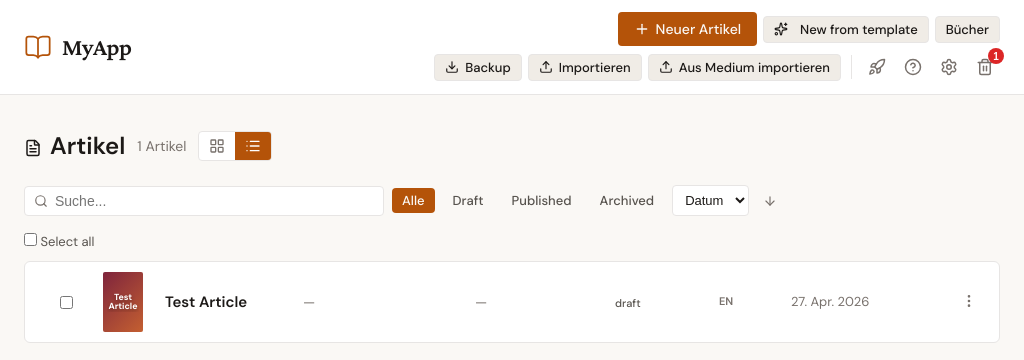
ArticleList › trash view respects viewMode toggle (list <-> grid)
Click the button with test id "article-list-trash-toggle": x=985, y=67 x1=970 y1=52 x2=1000 y2=82
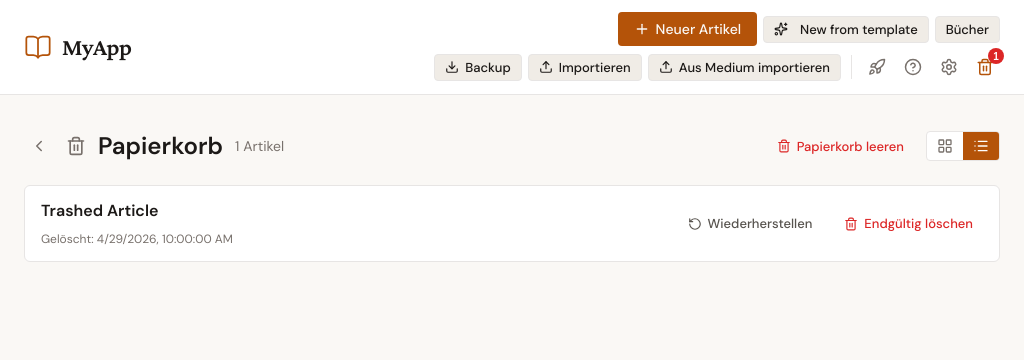
Expected: the list item with test id "article-trash-row-tr-1" is shown, x1=24 y1=185 x2=1000 y2=262
Click the radio button with test id "view-toggle-grid": x=945, y=146 x1=927 y1=132 x2=963 y2=160
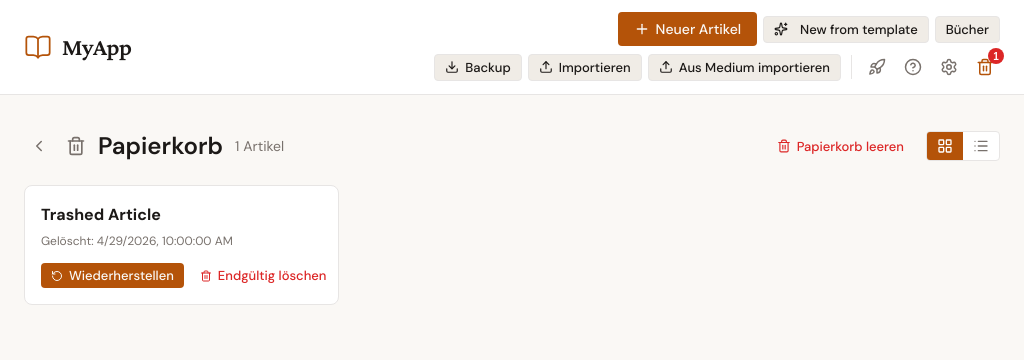
Expected: the element with test id "article-trash-card-tr-1" is shown, x1=24 y1=185 x2=339 y2=305
Expected: the list with test id "article-trash-list" is gone
